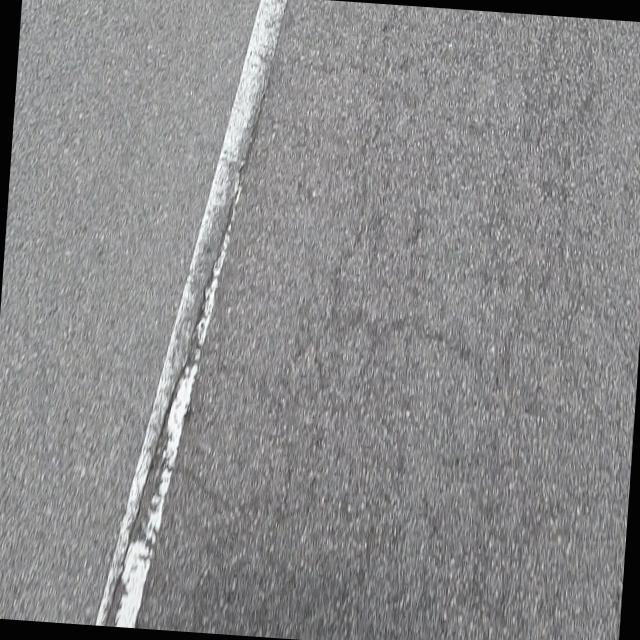Retak-Memanjang: (99, 65, 276, 626)
